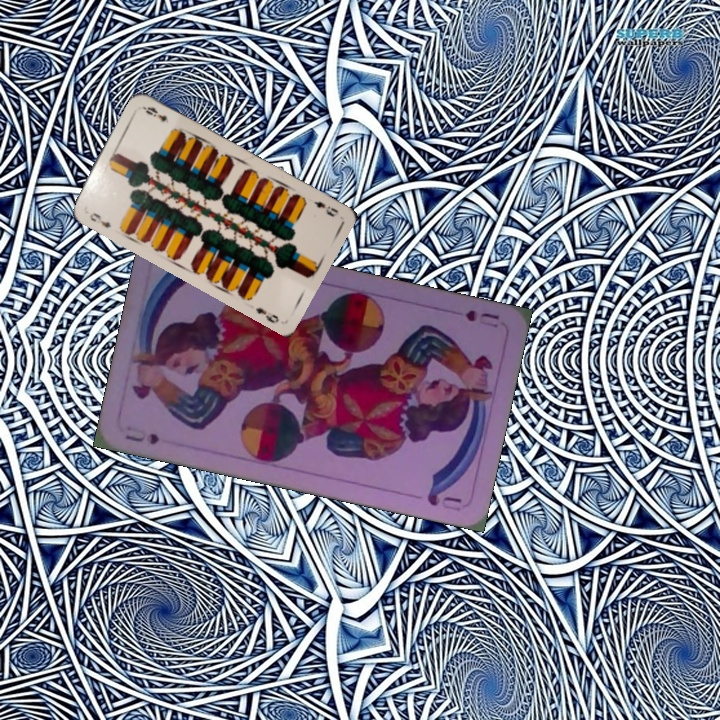E9: (310, 197, 341, 220), (86, 208, 114, 231)
SU: (121, 422, 162, 448), (461, 306, 502, 331)
